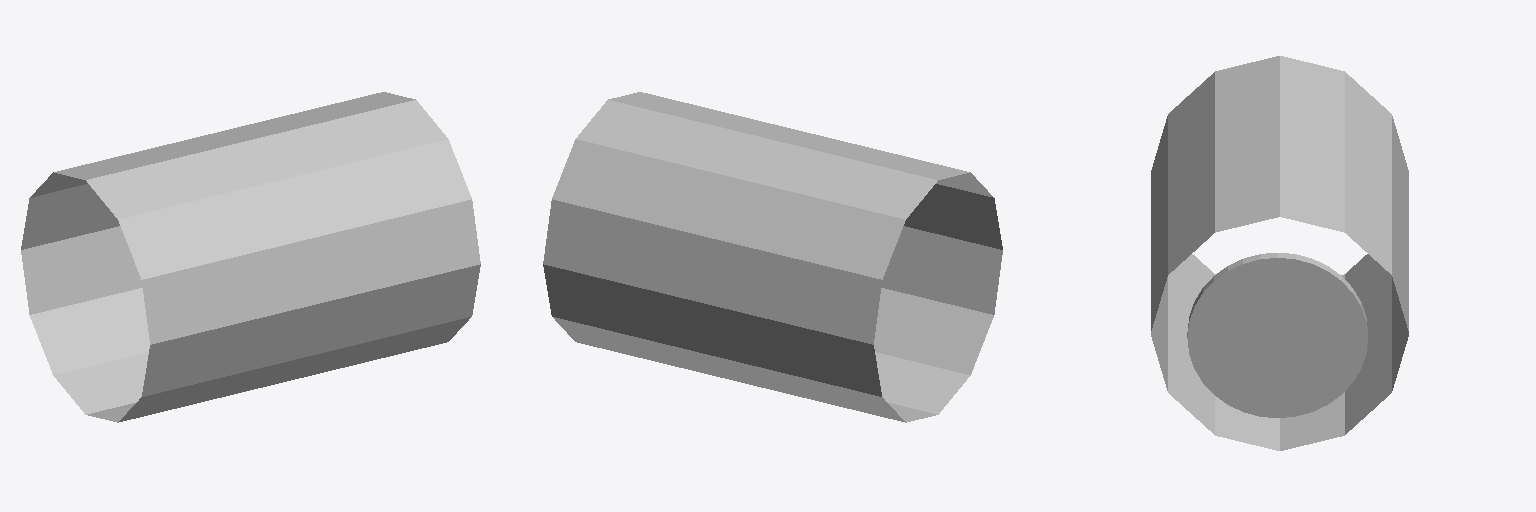
The model's file is Heater.obj.
3 views of the same model, side by side, from view 1: azimuth 30°, elevation 25°; view 2: azimuth 150°, elevation 25°; view 3: azimuth 270°, elevation 25° (orthographic).
Parts seen in each view (by area): view 1: NURBS_路径.001; view 2: NURBS_路径.001; view 3: NURBS_路径.001, 柱体.234.
Part boxes in pixels (x1,y1,x2,y2): NURBS_路径.001: (21,92,480,422); NURBS_路径.001: (543,92,1002,422); NURBS_路径.001: (1151,56,1408,450); 柱体.234: (1187,253,1367,417).
Size of the model in its own units: 6.27 by 4.12 by 4.12.